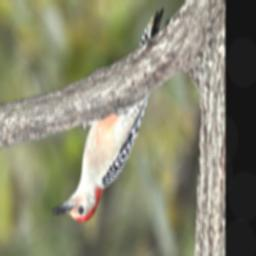Woodpecker: (50, 6, 164, 223)
